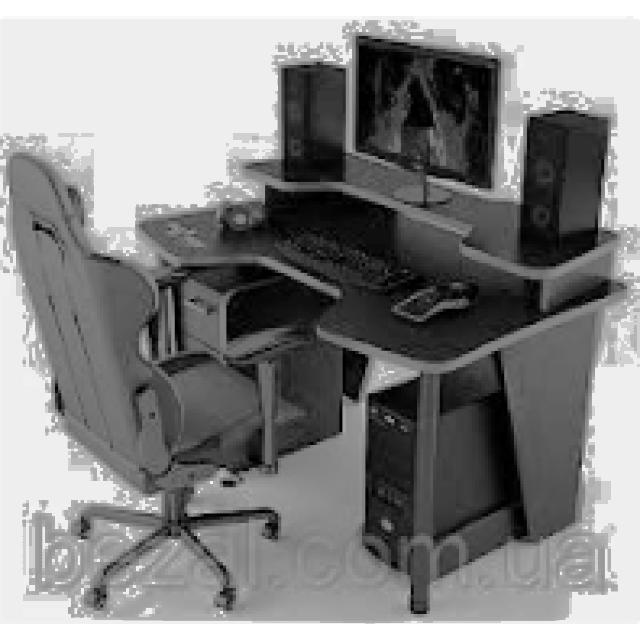table: (136, 156, 627, 611)
